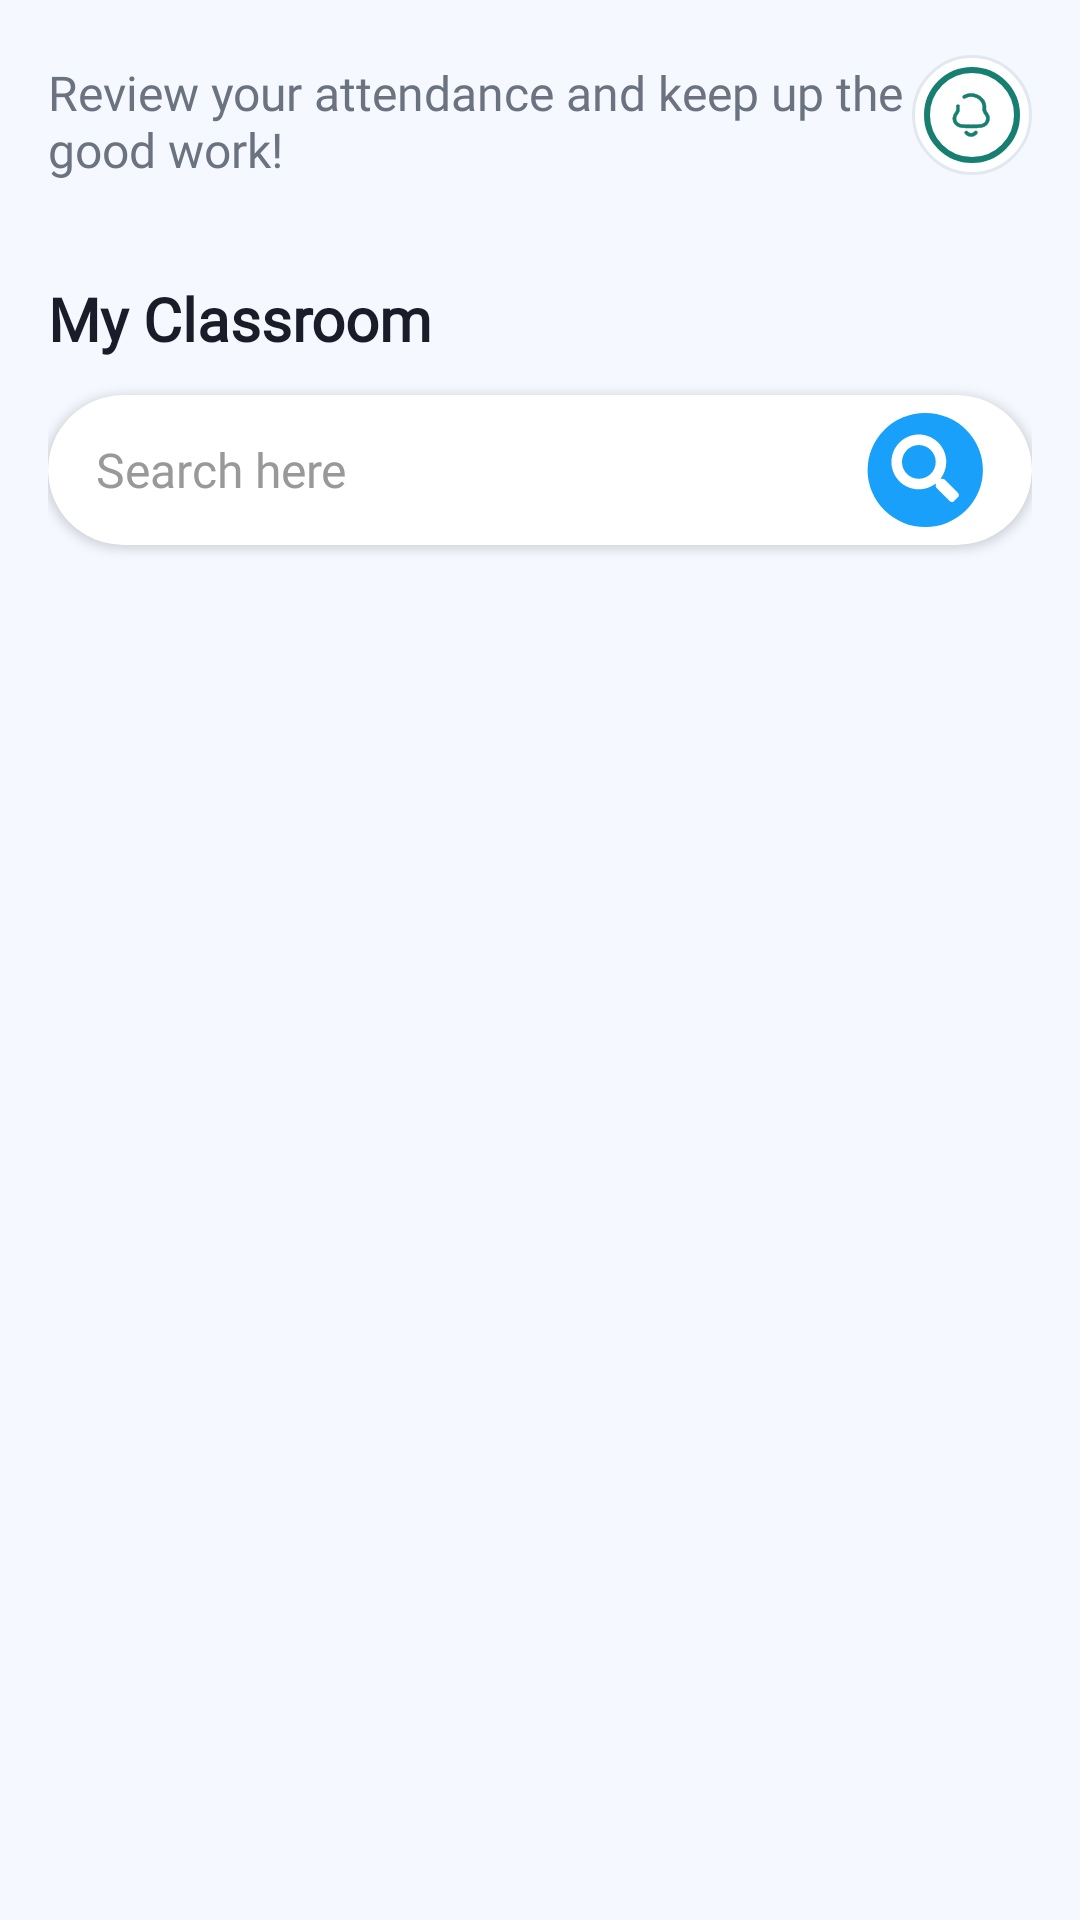

Icon bounding boxes for this 1080px x 1920px phone screenshot, format [x1,y1,x2,y2]:
Notifications: [912,55,1032,175]
